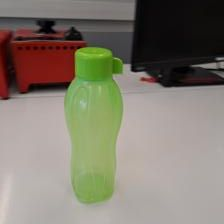bottle: (62, 46, 127, 206)
